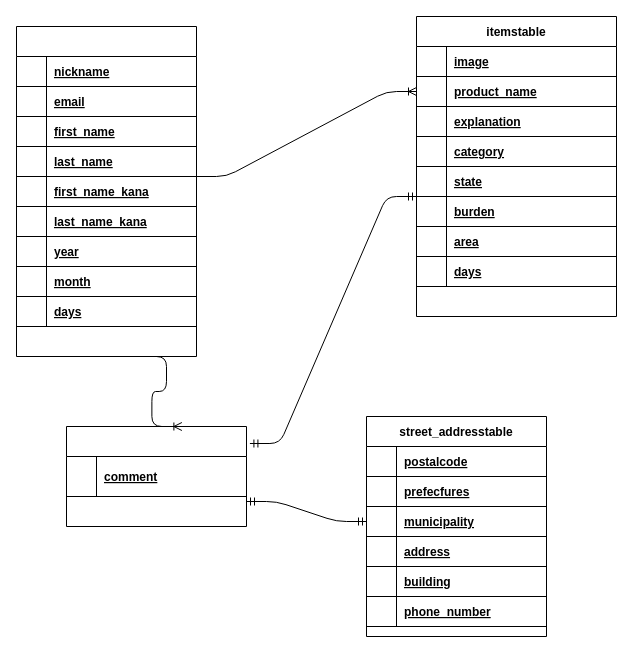
The diagram is 633 pixels wide and 653 high, and some of its shapes have lost their labels. Here are the shapes that lost their labels. From the top down, the box of each, then its label:
(16, 26, 196, 356): userstable
(66, 426, 246, 526): buystable
